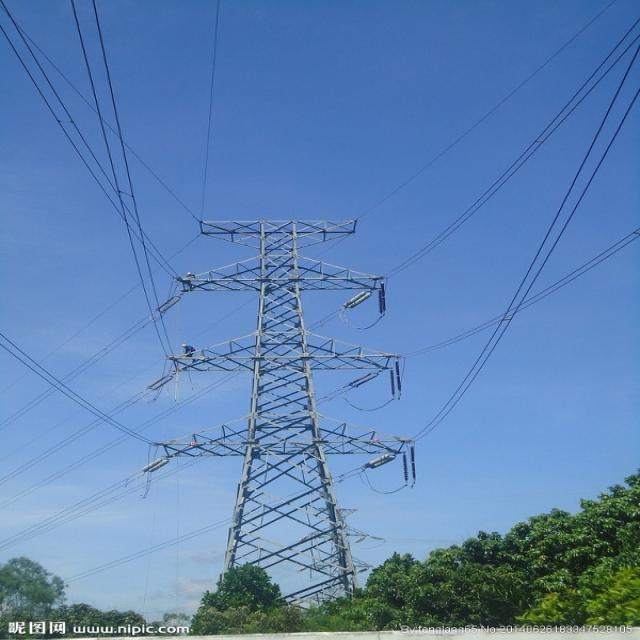non-critical vegetation: (164, 207, 422, 588)
